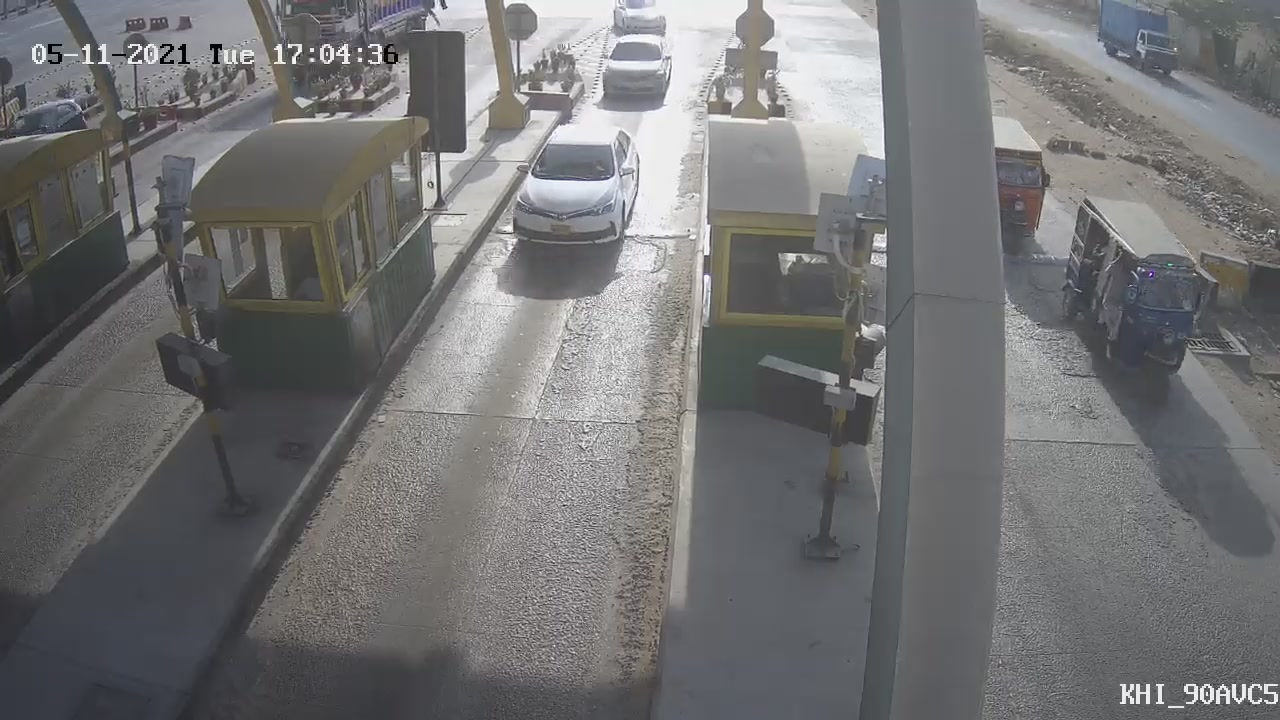F1: (489, 108, 660, 272)
